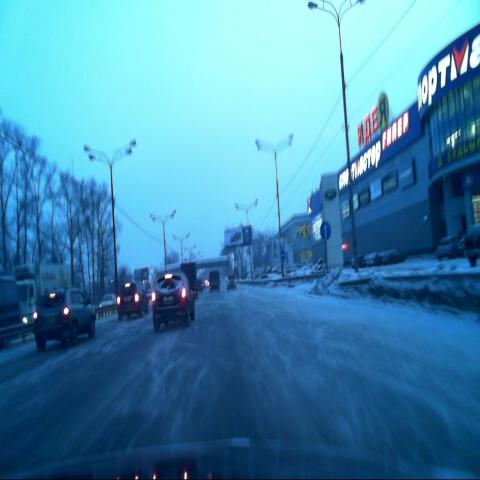2_4: (278, 235, 285, 249)
4_1_2_1: (280, 249, 286, 260)
